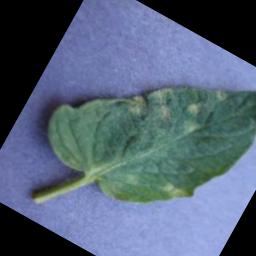Leaf_Mold: (122, 73, 183, 132), (159, 176, 195, 207)
